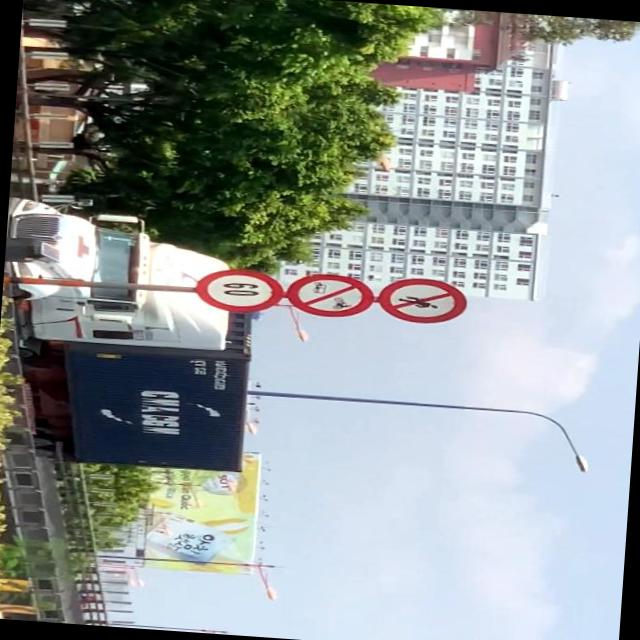P-104: (284, 271, 372, 320)
P-112: (377, 276, 468, 324)
P-127: (192, 268, 283, 314)
